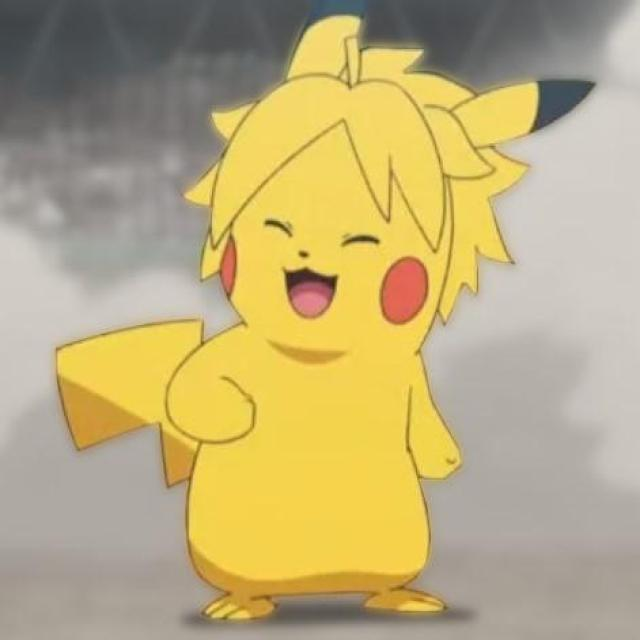pikachu: (54, 2, 596, 622)
